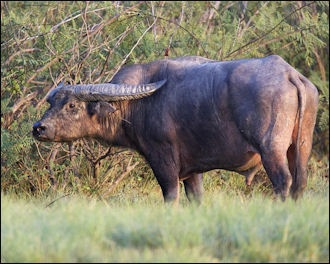buffalo: (30, 54, 314, 205)
